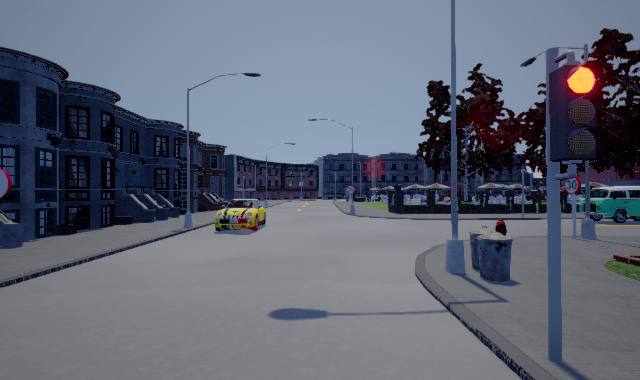traffic_light: (549, 59, 603, 161)
traffic_sign: (563, 175, 582, 194), (1, 169, 12, 199), (347, 185, 355, 193)
vehicle: (576, 186, 640, 221), (215, 199, 266, 232)
